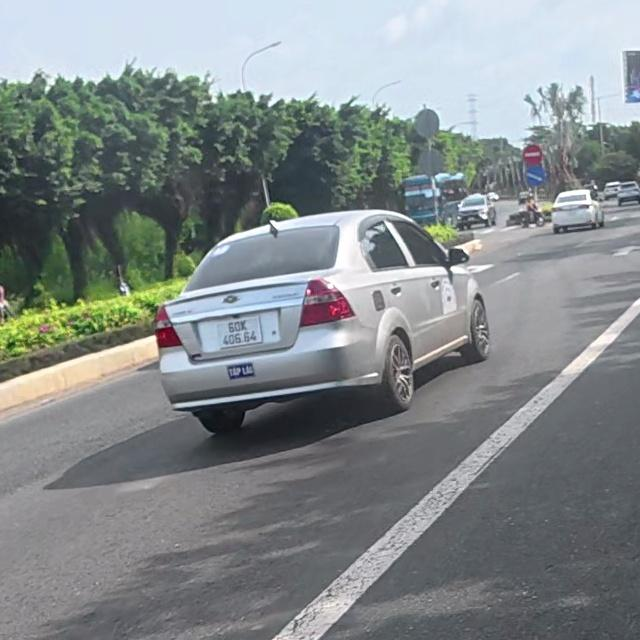license-plate: (221, 320, 258, 346)
